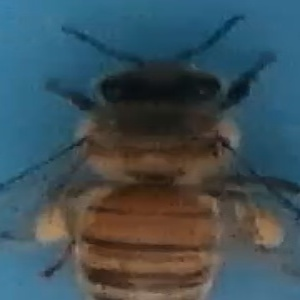bee: (17, 16, 292, 300)
